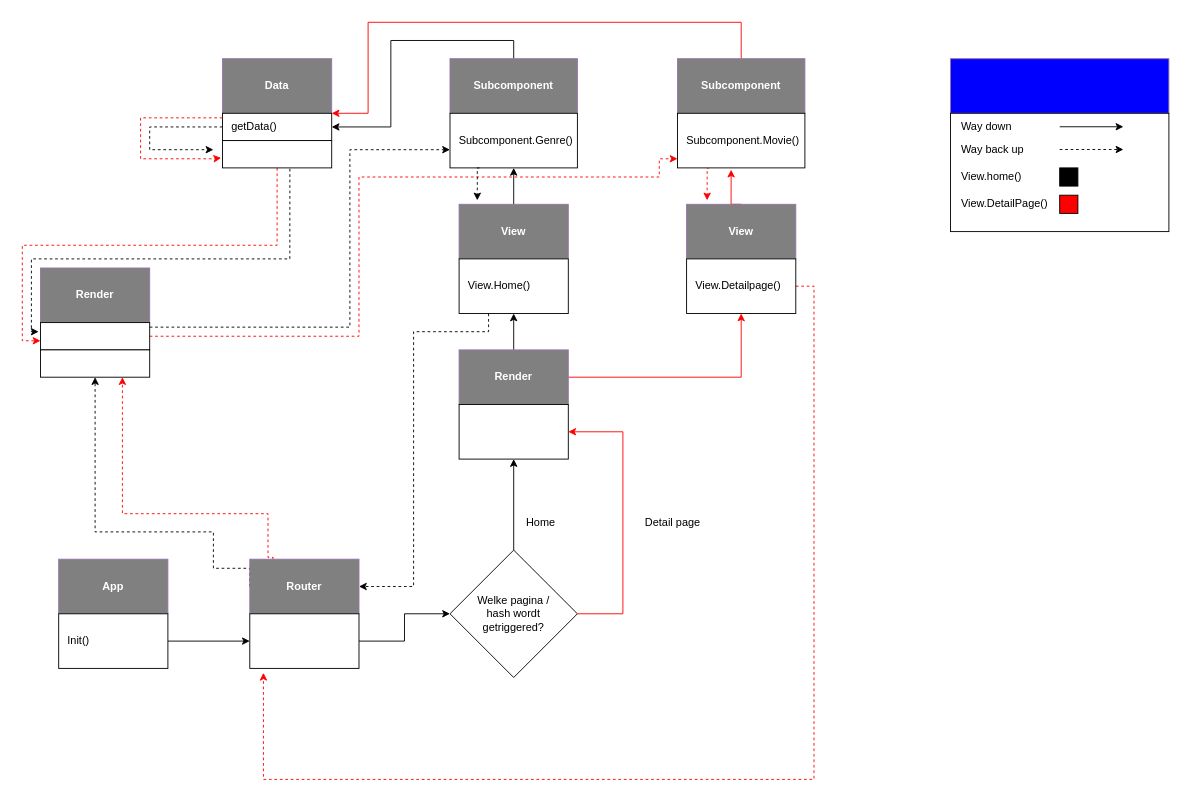
Some shapes in this 1185 by 803 pixel diagram are drawn without their labels. Each missing label, with the centre of its shape:
cleanData(): [277,154]
cleanDom(): [513,431]
createAndAppend(): [95,336]
Legend: [1059,85]
Render(): [95,363]
Router.handler(): [304,640]
